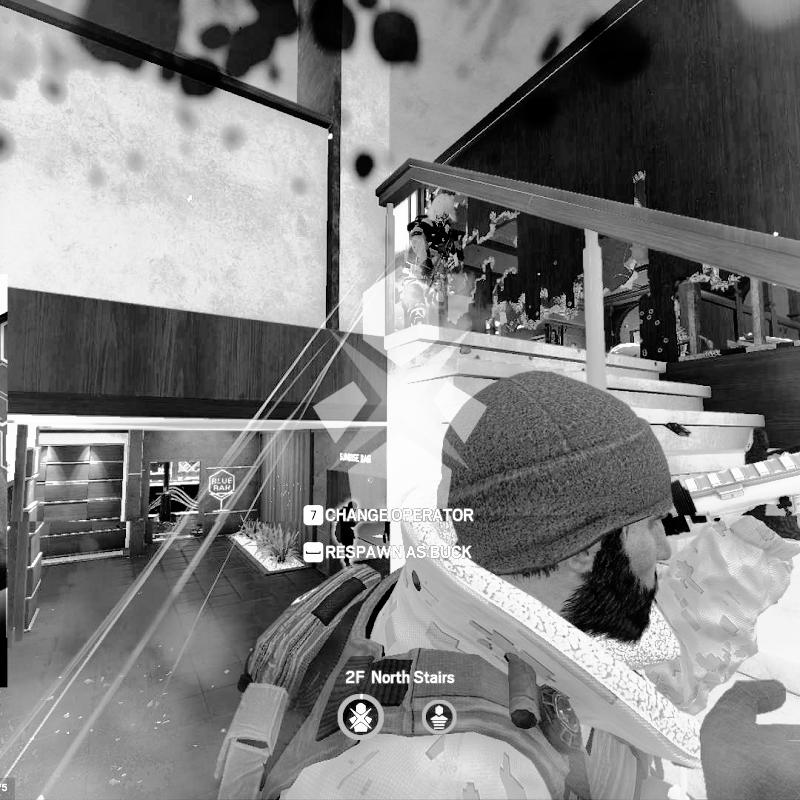Character: (211, 368, 800, 800), (397, 190, 462, 329)
Head: (431, 368, 676, 652), (428, 195, 458, 226)
